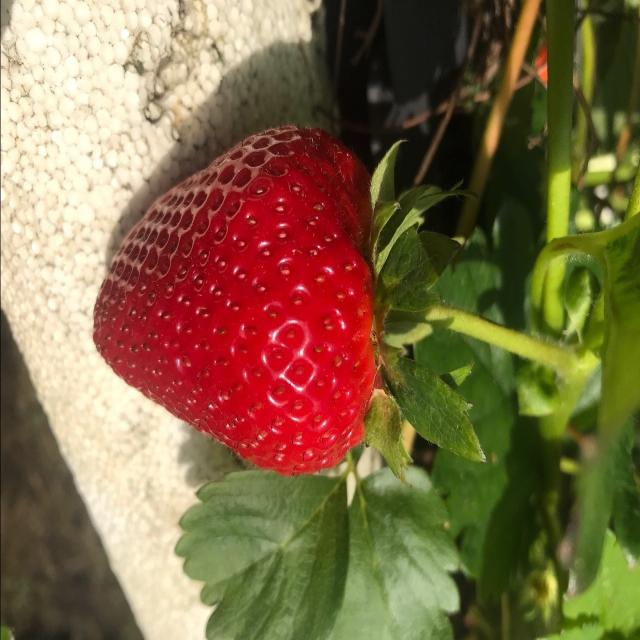strawberry: (60, 70, 414, 510)
